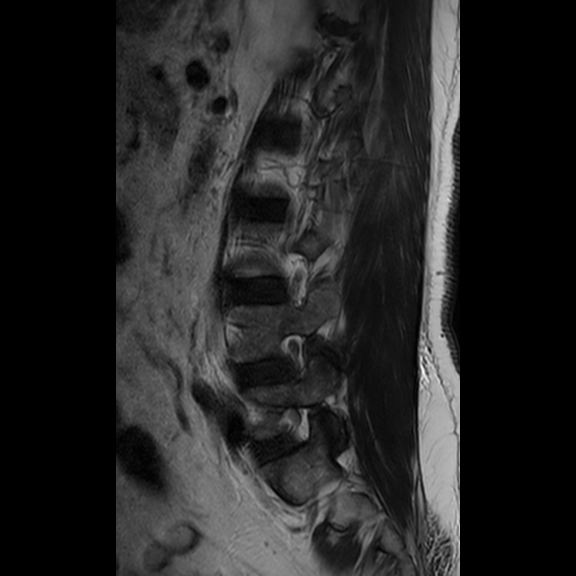LFS0: (270, 321, 327, 390)
